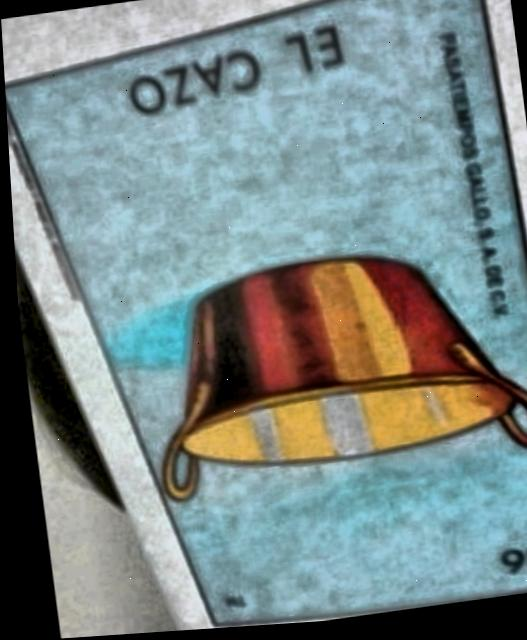El Cazo: (4, 0, 527, 626)
